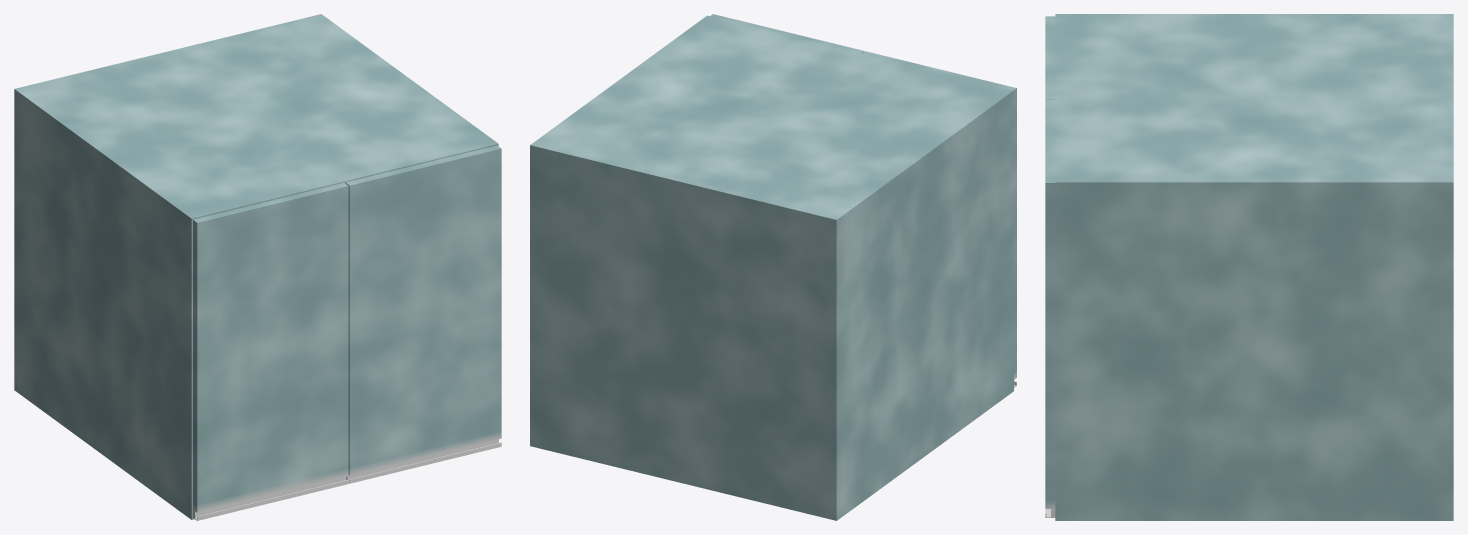
The model's file is top_shelf_all.fbx.
3 renders of one model, left to right at view 1: azimuth 30°, elevation 25°; view 2: azimuth 150°, elevation 25°; view 3: azimuth 270°, elevation 25°, orthographic. The views are drawn at different scales.
Visible parts, largest first — view 1: top_shelf_all_Baked; view 2: top_shelf_all_Baked; view 3: top_shelf_all_Baked.
Boxes of the visible parts, x1=… form: top_shelf_all_Baked: x1=14, y1=14, x2=501, y2=520; top_shelf_all_Baked: x1=530, y1=14, x2=1016, y2=520; top_shelf_all_Baked: x1=1045, y1=14, x2=1453, y2=520.
Bounding box in the file's own units: 80 × 75 × 81.99.
